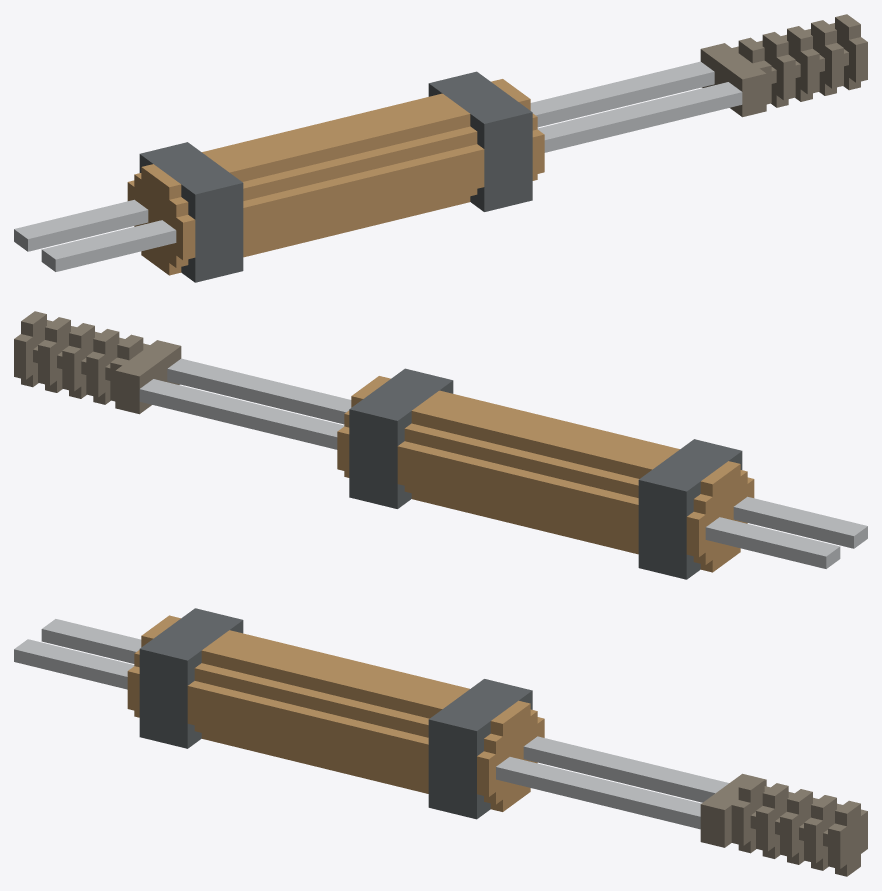
Rendered from crude_firestarter.glb.
3 views of the same model, one above another, from view 1: azimuth 30°, elevation 25°; view 2: azimuth 150°, elevation 25°; view 3: azimuth 330°, elevation 25° (orthographic).
Parts seen in each view (by area): view 1: crude_firestarter:compound; view 2: crude_firestarter:compound; view 3: crude_firestarter:compound.
Part boxes in pixels (bbox=[...]): crude_firestarter:compound: bbox=[14, 14, 867, 282]; crude_firestarter:compound: bbox=[14, 311, 867, 579]; crude_firestarter:compound: bbox=[14, 608, 867, 876].
Bounding box in the file's own units: 0.136 × 0.014 × 0.016.
